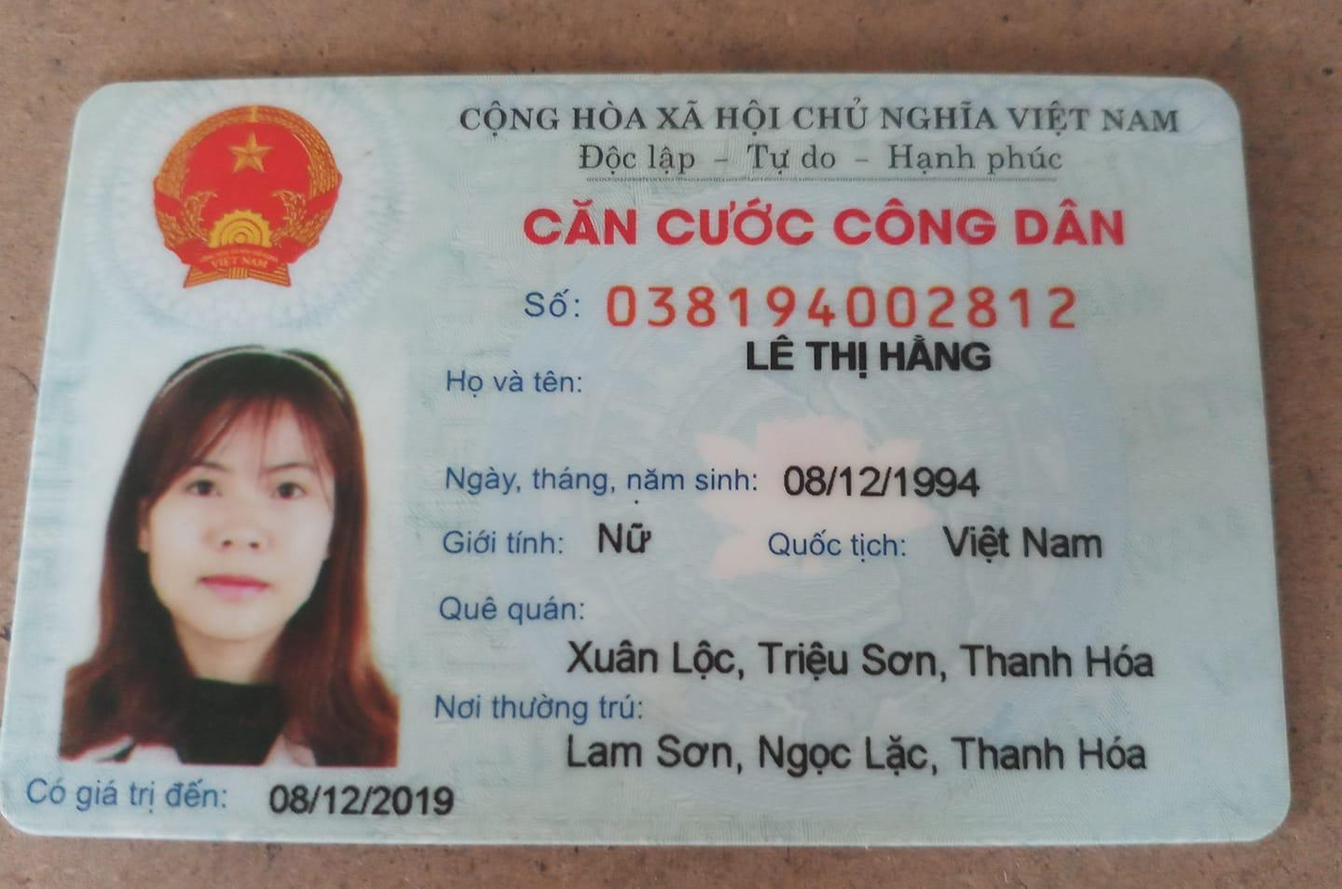bottom_left: (2, 709, 50, 848)
bottom_right: (1226, 779, 1304, 855)
image_person: (60, 322, 411, 773)
top_left: (61, 73, 131, 132)
top_right: (1184, 67, 1253, 142)
